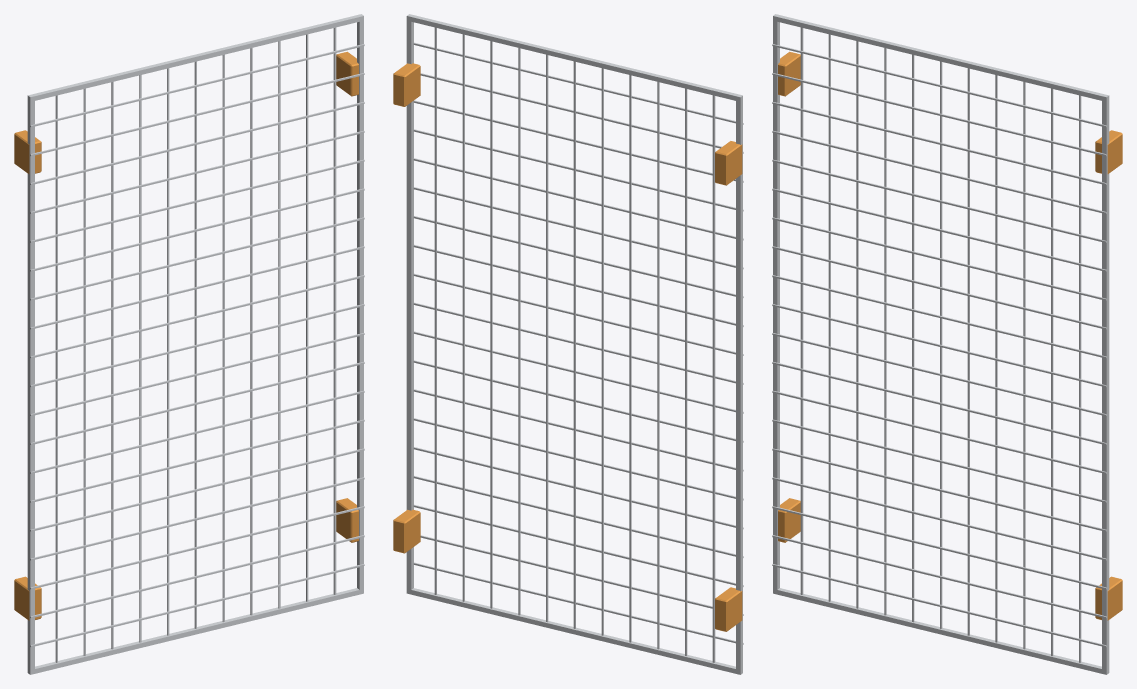
File: rack-safety-mesh-backing.glb
3 renders of one model, left to right at view 1: azimuth 30°, elevation 25°; view 2: azimuth 150°, elevation 25°; view 3: azimuth 330°, elevation 25°, orthographic.
Visible parts, largest first — view 1: rack-safety-mesh-backing; view 2: rack-safety-mesh-backing; view 3: rack-safety-mesh-backing.
Boxes of the visible parts, bbox=[...] form: rack-safety-mesh-backing: bbox=[14, 14, 364, 674]; rack-safety-mesh-backing: bbox=[393, 14, 743, 674]; rack-safety-mesh-backing: bbox=[772, 14, 1122, 674].
Size of the model in its own units: 1.33 by 2.2 by 0.1188.
